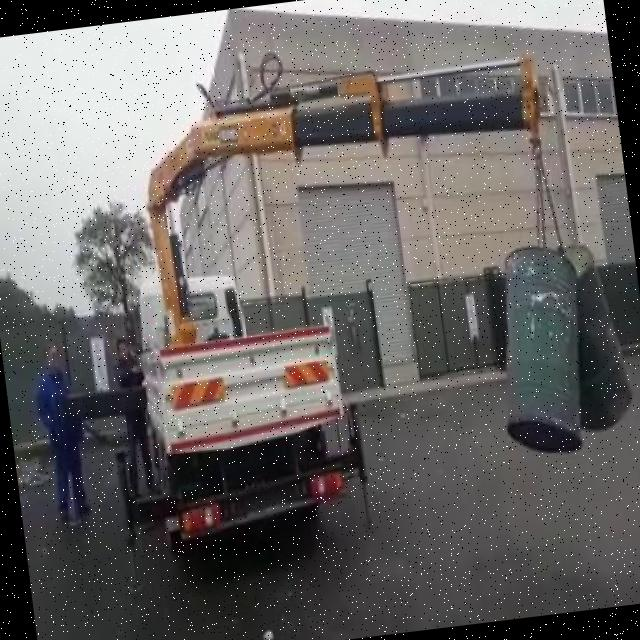Mobile Crane: (15, 50, 592, 620)
